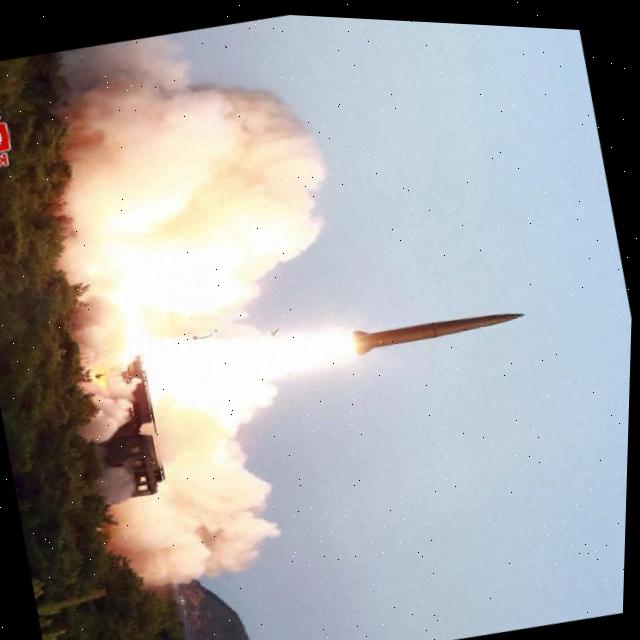missile: (346, 279, 535, 368)
